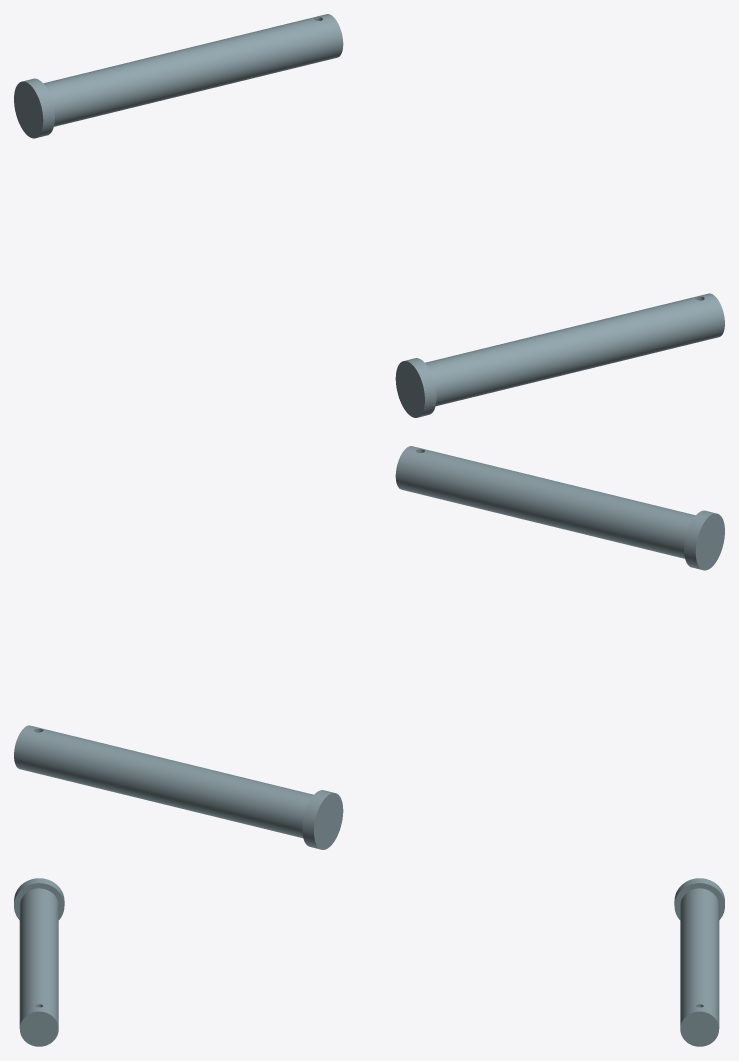
Rendered from upright_pins_C02_R02.glb.
The picture shows the model from 3 angles, top to bottom: view 1: azimuth 30°, elevation 25°; view 2: azimuth 150°, elevation 25°; view 3: azimuth 270°, elevation 25°; orthographic projection. The views are drawn at different scales.
Parts seen in each view (by area): view 1: outer_upper_hinge_pin, outer_lower_hinge_pin; view 2: outer_lower_hinge_pin, outer_upper_hinge_pin; view 3: outer_upper_hinge_pin, outer_lower_hinge_pin.
Part boxes in pixels (bbox=[...]): outer_upper_hinge_pin: bbox=[395, 293, 724, 417]; outer_lower_hinge_pin: bbox=[14, 14, 343, 138]; outer_lower_hinge_pin: bbox=[14, 725, 343, 849]; outer_upper_hinge_pin: bbox=[395, 446, 724, 570]; outer_upper_hinge_pin: bbox=[14, 878, 64, 1046]; outer_lower_hinge_pin: bbox=[674, 878, 724, 1046].
Bounding box in the file's own units: 0.156 × 0.026 × 0.366.
